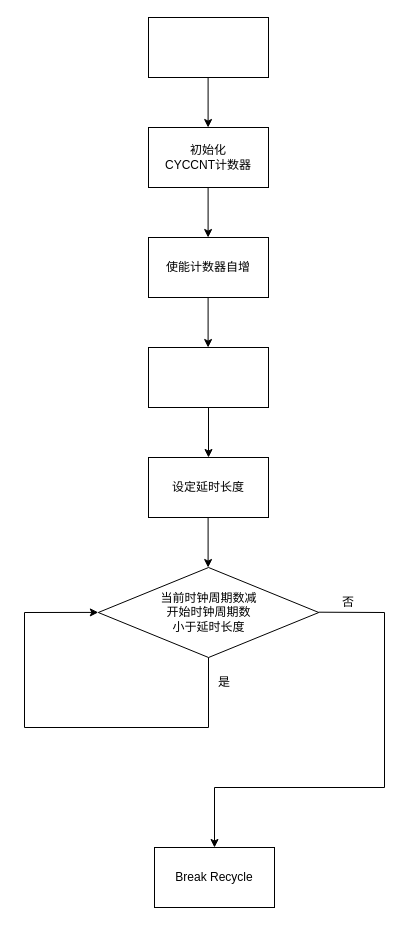
Some shapes in this 403 by 925 pixel diagram are drawn without their labels. The shapes that lost their labels are listed below. From the top down, each one's centre as x and y in pixels, then its label:
pixel 208 47: 启动DWT 电源与时钟
pixel 208 377: DWT->CYCCNT计数器记录起点CPU时钟周期数
